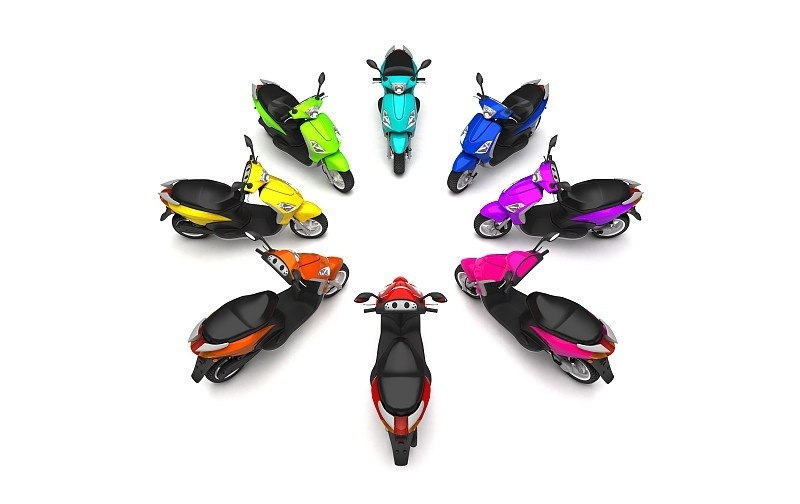non-vehicle: (454, 239, 621, 388), (186, 246, 351, 374), (351, 288, 454, 447), (477, 152, 646, 240), (161, 153, 323, 243), (447, 65, 554, 192), (247, 66, 347, 195), (365, 47, 430, 172)
